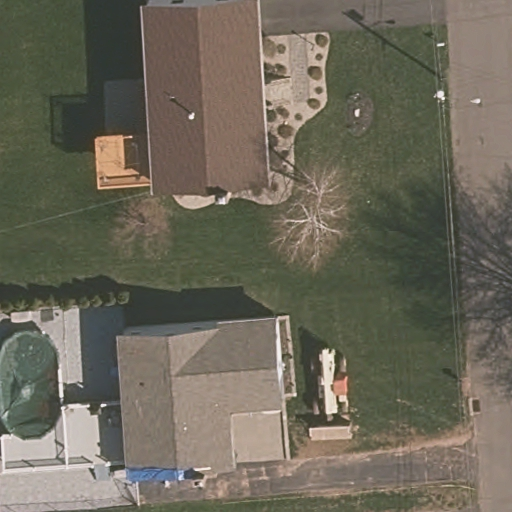DT: (425, 72, 489, 113)
